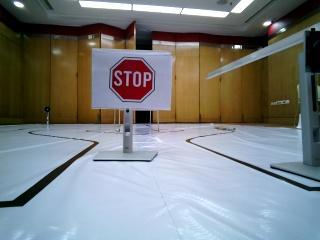stop: (91, 49, 166, 109)
